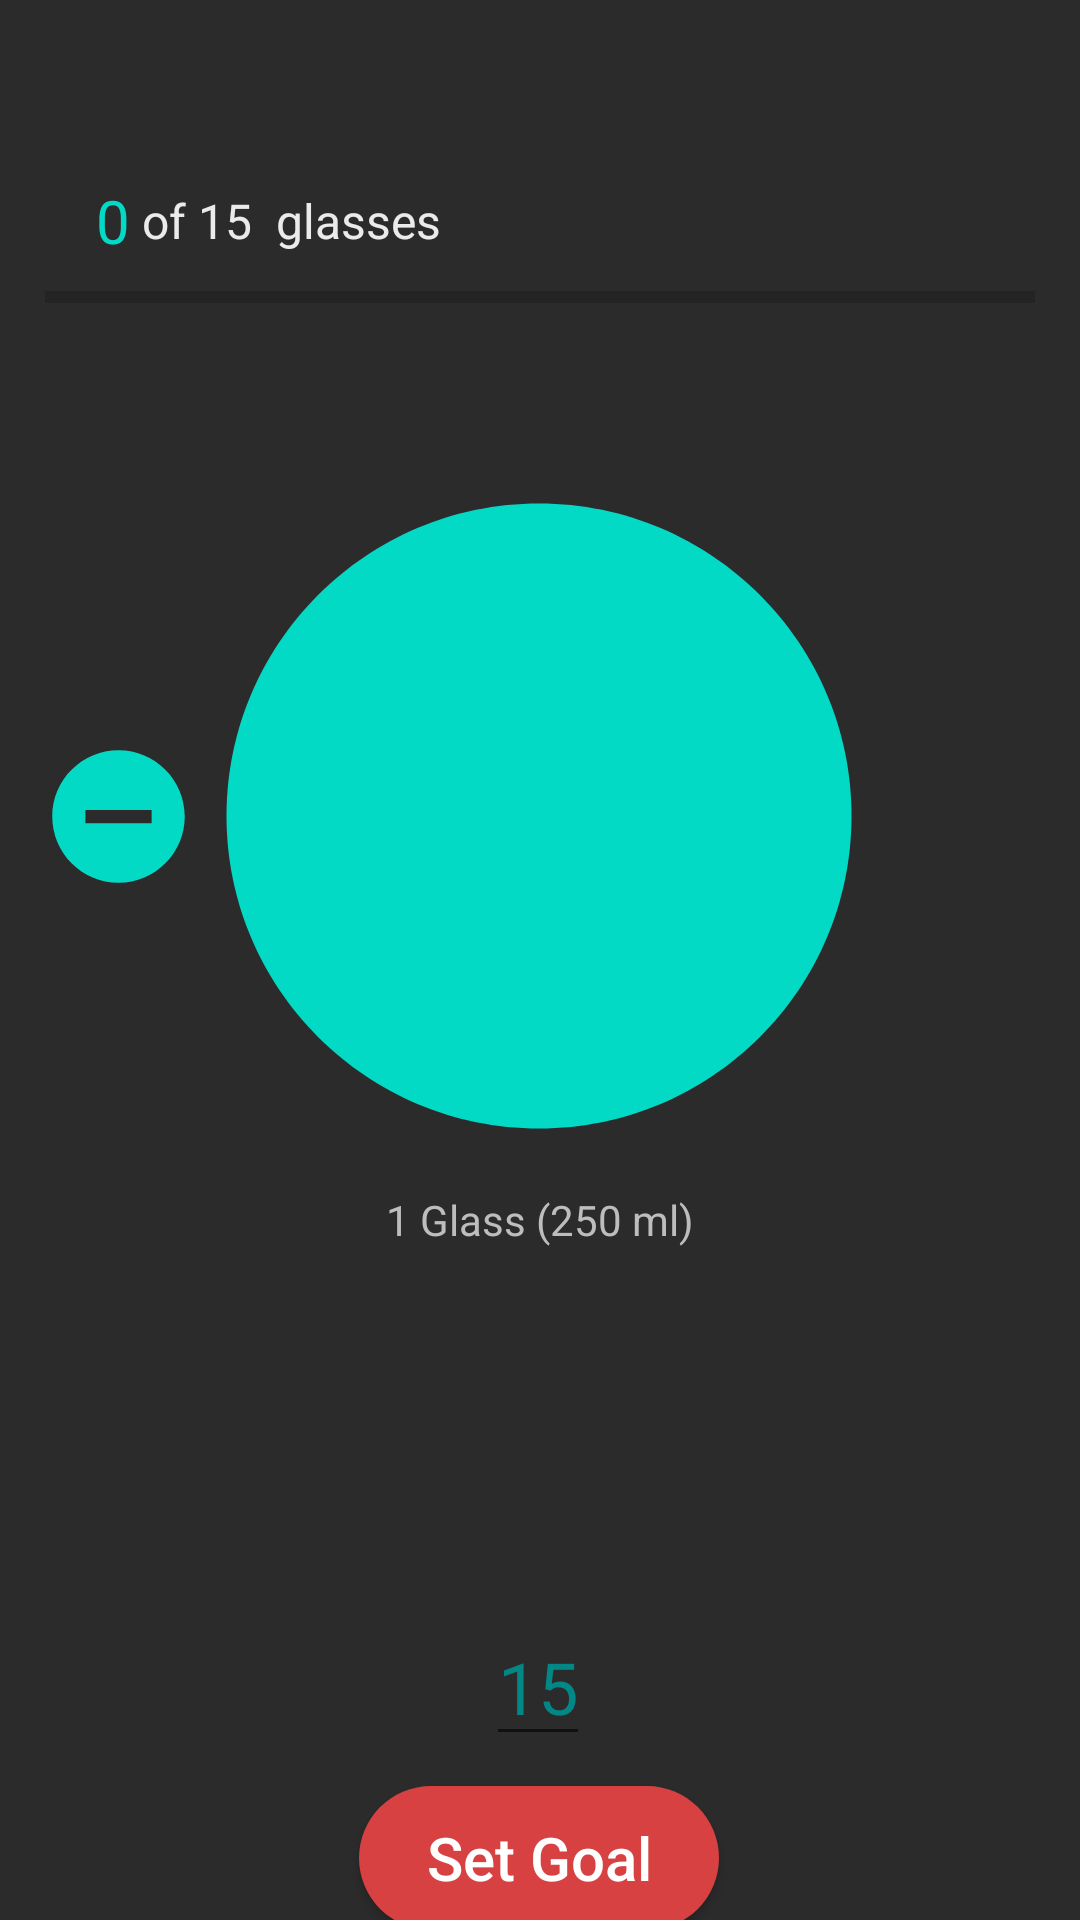

Icons on this 1080×1920 Android screen, each with the point to tap as [x,y]:
remove circle: [118,816]
